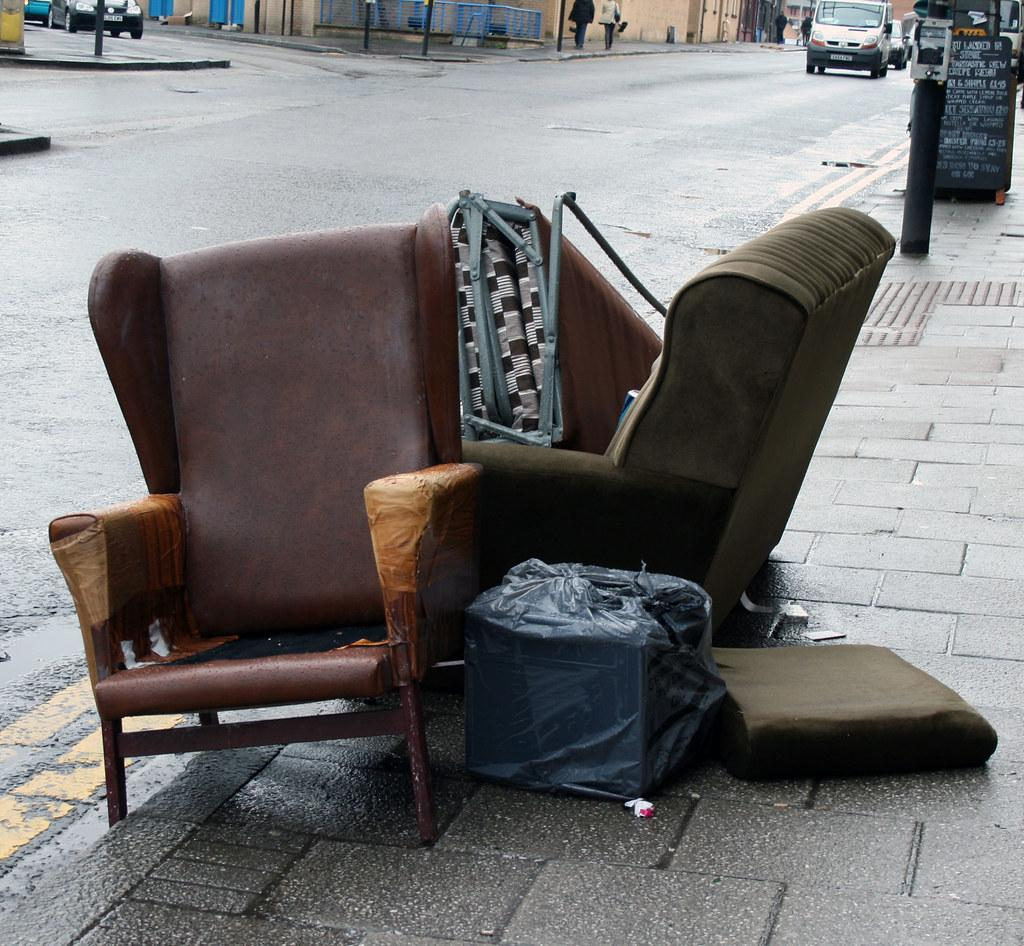chair: (48, 204, 481, 846), (455, 201, 897, 636)
